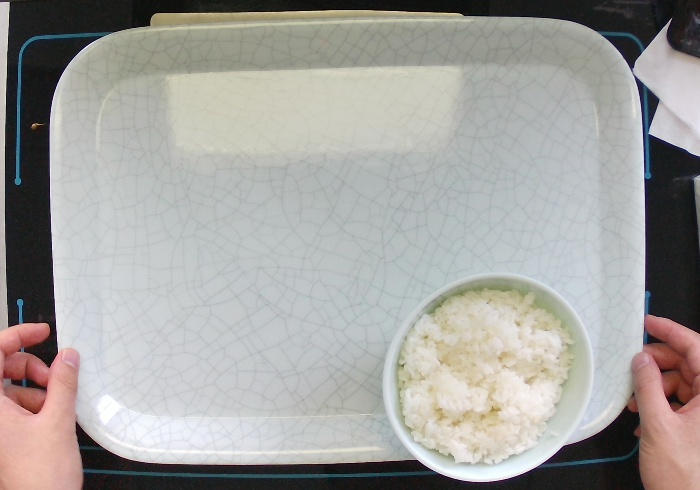JYsf-Fan_Wan: (378, 268, 600, 486)
